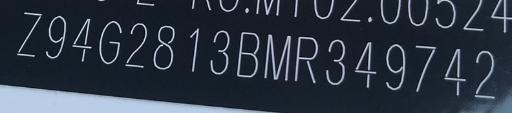letter: (262, 31, 292, 82), (410, 41, 438, 94), (470, 47, 498, 100), (14, 9, 44, 58), (351, 38, 379, 89), (442, 46, 468, 99), (234, 29, 262, 78), (122, 20, 148, 71), (294, 33, 318, 86), (383, 42, 407, 93), (152, 22, 176, 73), (322, 37, 346, 86), (44, 13, 68, 60), (70, 17, 94, 64), (98, 18, 122, 65), (208, 28, 230, 77), (184, 24, 200, 75)
